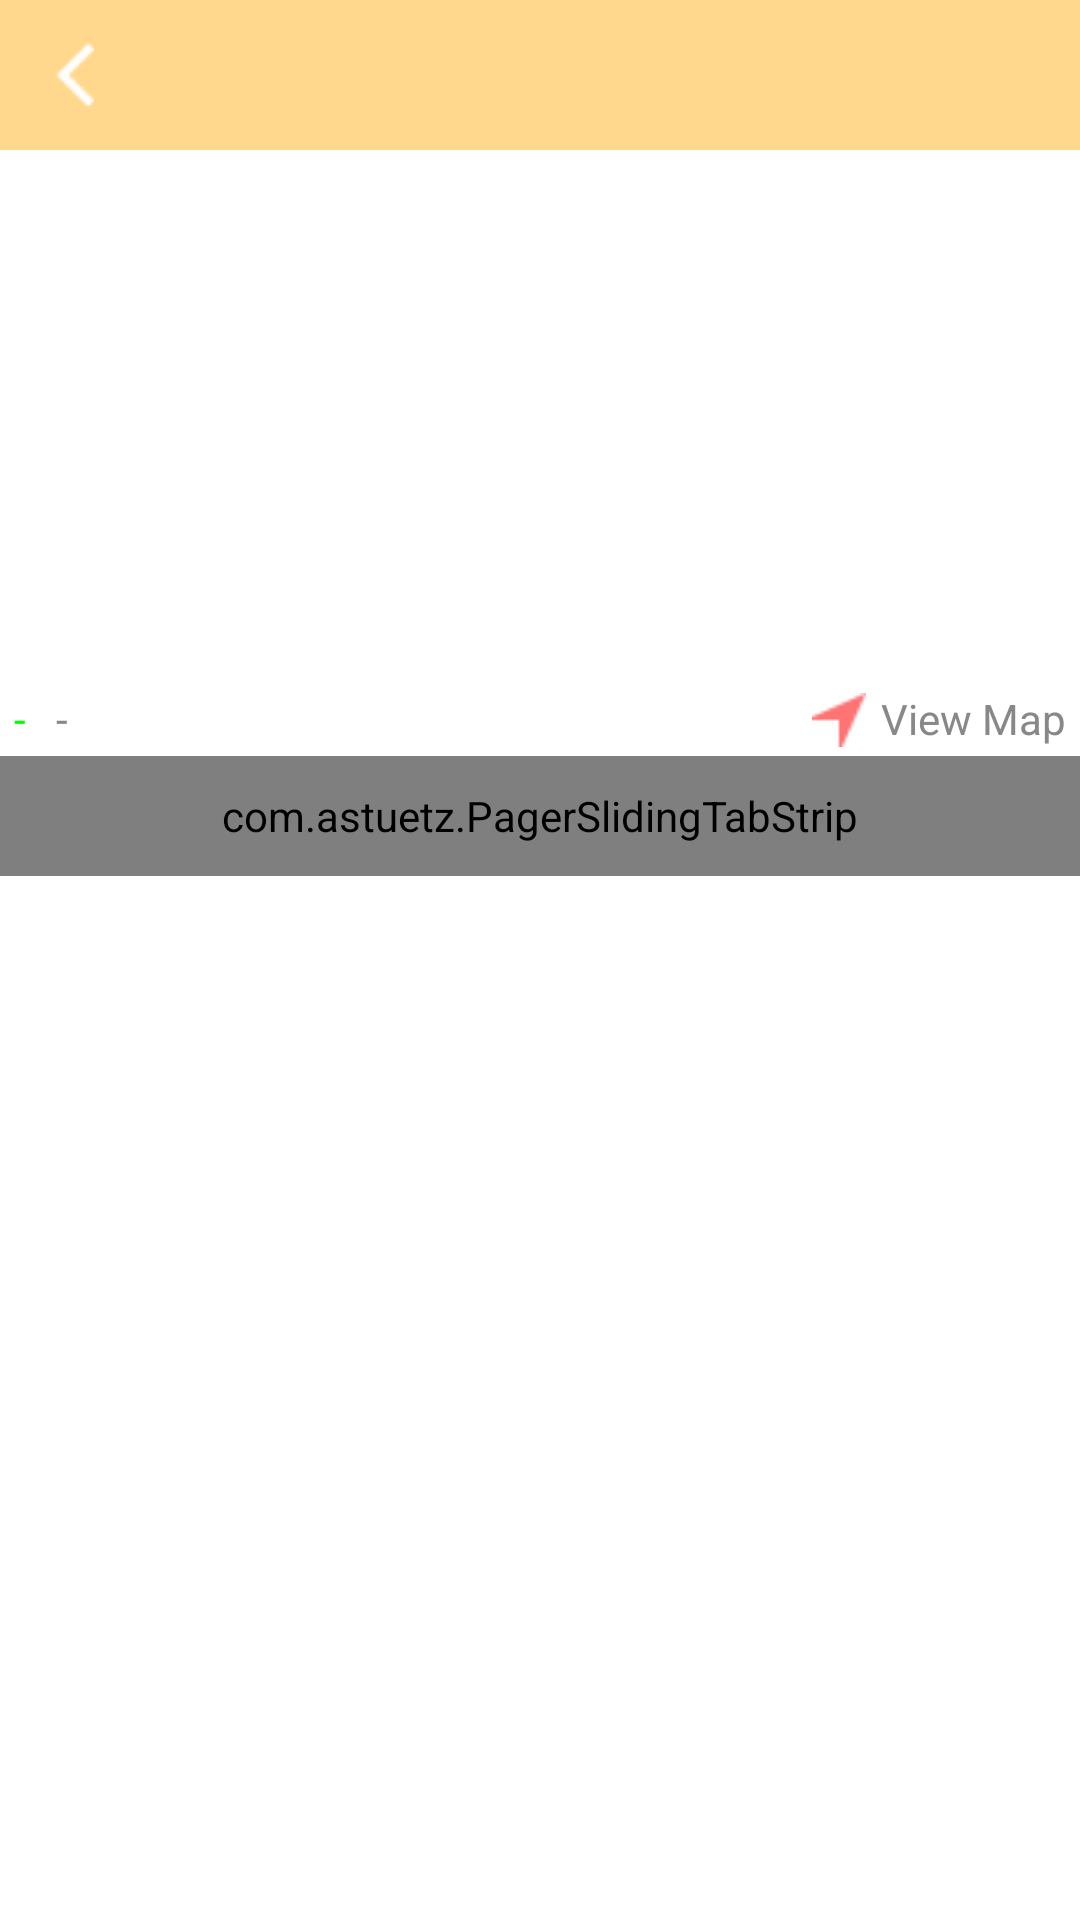

Where to tap for icons on this 1080 x 1920 app screen, as (x=x, y=y):
backarrow: (x=75, y=75)
location arrow: (x=839, y=720)
